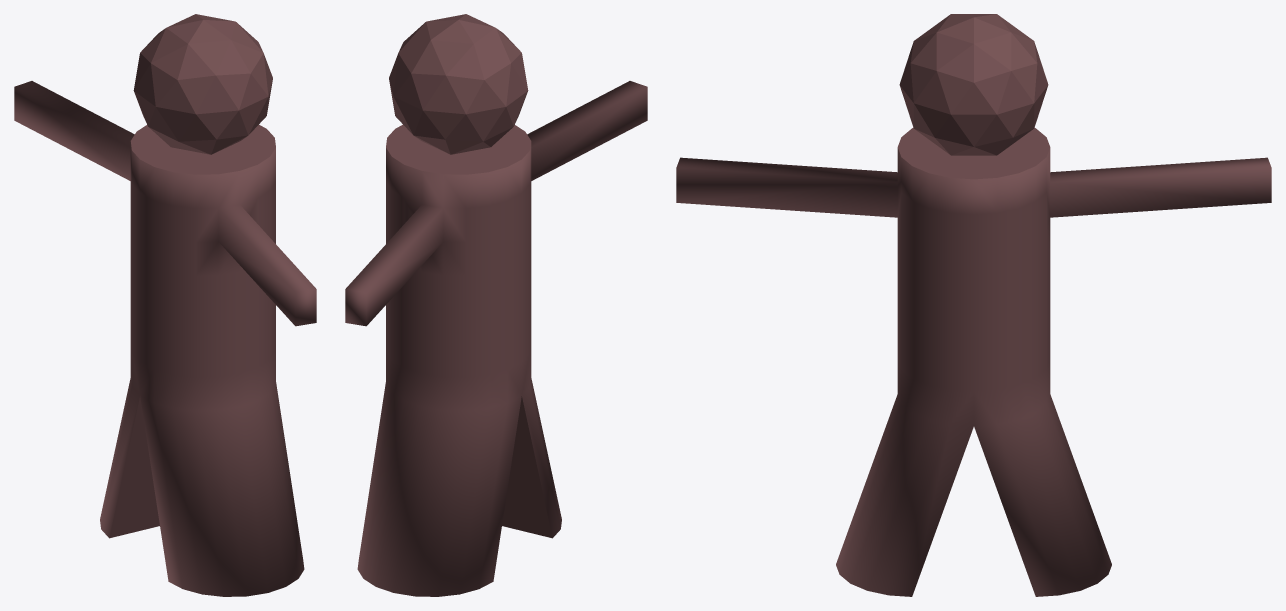
Rendered from fatcylinder.glb.
3 views of the same model, side by side, from view 1: azimuth 30°, elevation 25°; view 2: azimuth 150°, elevation 25°; view 3: azimuth 270°, elevation 25° (orthographic). The views are drawn at different scales.
Visible parts, largest first — view 1: Cylinder; view 2: Cylinder; view 3: Cylinder.
Part boxes in pixels (x1,y1,x2,y2): Cylinder: [14, 14, 316, 596]; Cylinder: [345, 14, 647, 596]; Cylinder: [676, 14, 1271, 596].
Bounding box in the file's own units: 1.13 × 4.44 × 4.37.
